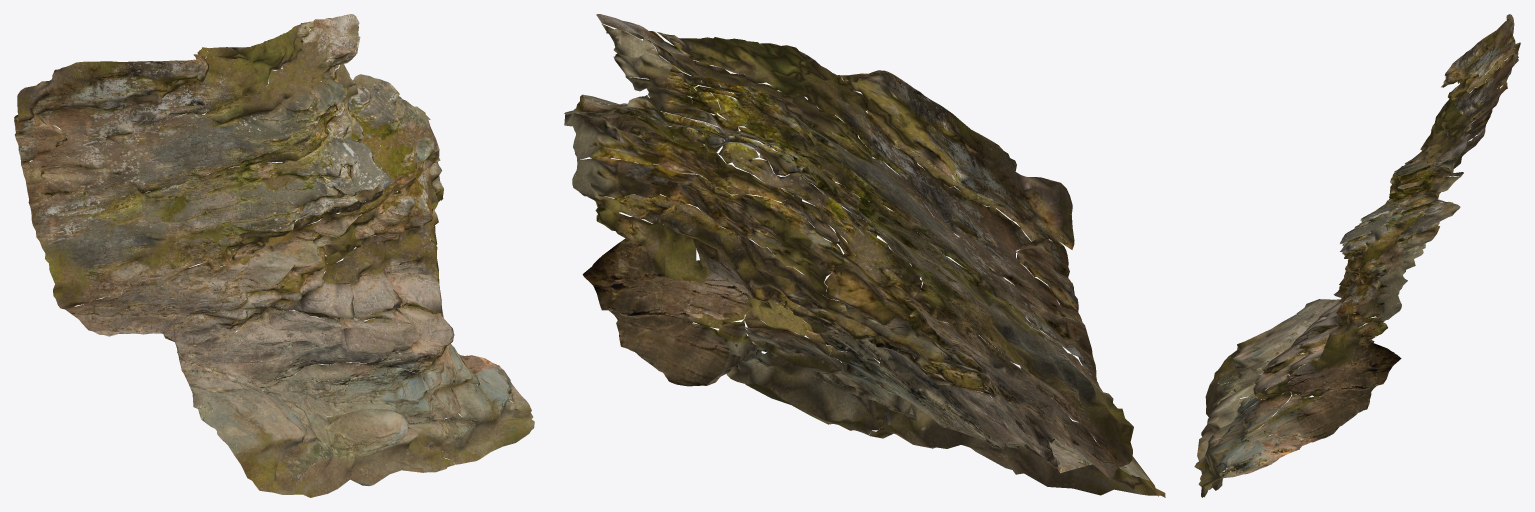
File: ph_rock_face_02.glb
The picture shows the model from 3 angles, left to right: view 1: azimuth 30°, elevation 25°; view 2: azimuth 150°, elevation 25°; view 3: azimuth 270°, elevation 25°; orthographic projection. The views are drawn at different scales.
Parts seen in each view (by area): view 1: rock_face_02; view 2: rock_face_02; view 3: rock_face_02.
Part boxes in pixels (x1=…): rock_face_02: x1=14, y1=14, x2=534, y2=497; rock_face_02: x1=564, y1=14, x2=1165, y2=497; rock_face_02: x1=1194, y1=14, x2=1520, y2=497.
Size of the model in its own units: 2.71 by 2.48 by 2.13.
1 material, 1 textured.
